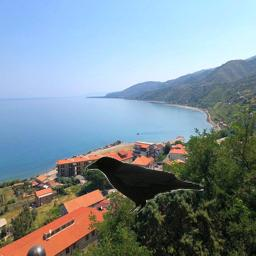Crow: (82, 153, 204, 214)
